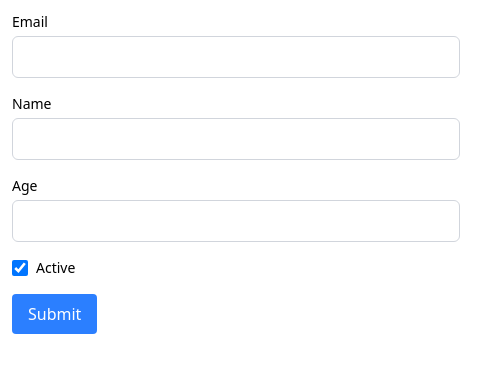
Integration Tests › Full Stack Flow: API → Prisma → Database › should handle complete user creation flow from form to database
Type "test@example.com" into the field labelled "Email".
click(236, 57); type("test@example.com")  # box [12,36,460,78]
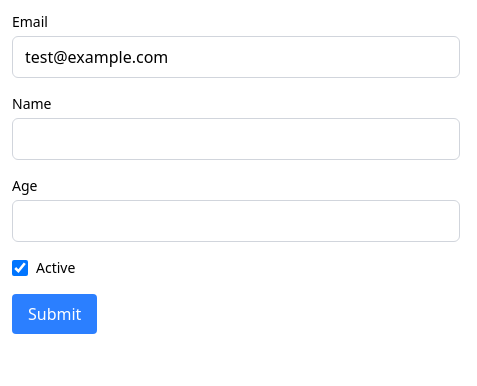
Type "Test User" into the field labelled "Name".
click(236, 139); type("Test User")  # box [12,118,460,160]
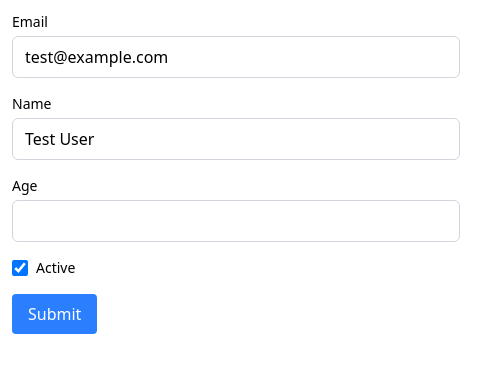
Type "25" into the number field labelled "Age".
click(236, 221); type("25")  # box [12,200,460,242]
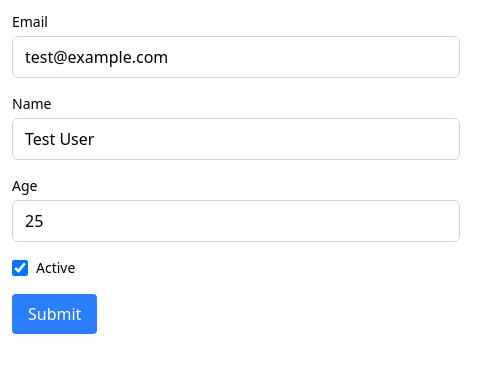
Submit the form
Click the button "Submit".
click(55, 314)  # box [12,294,97,334]
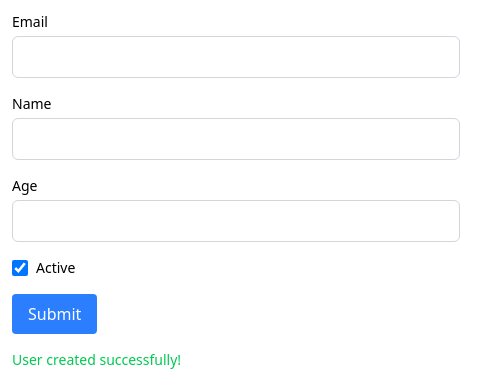
Result: the text "User created successfully!" is shown at [12,350,181,369]
